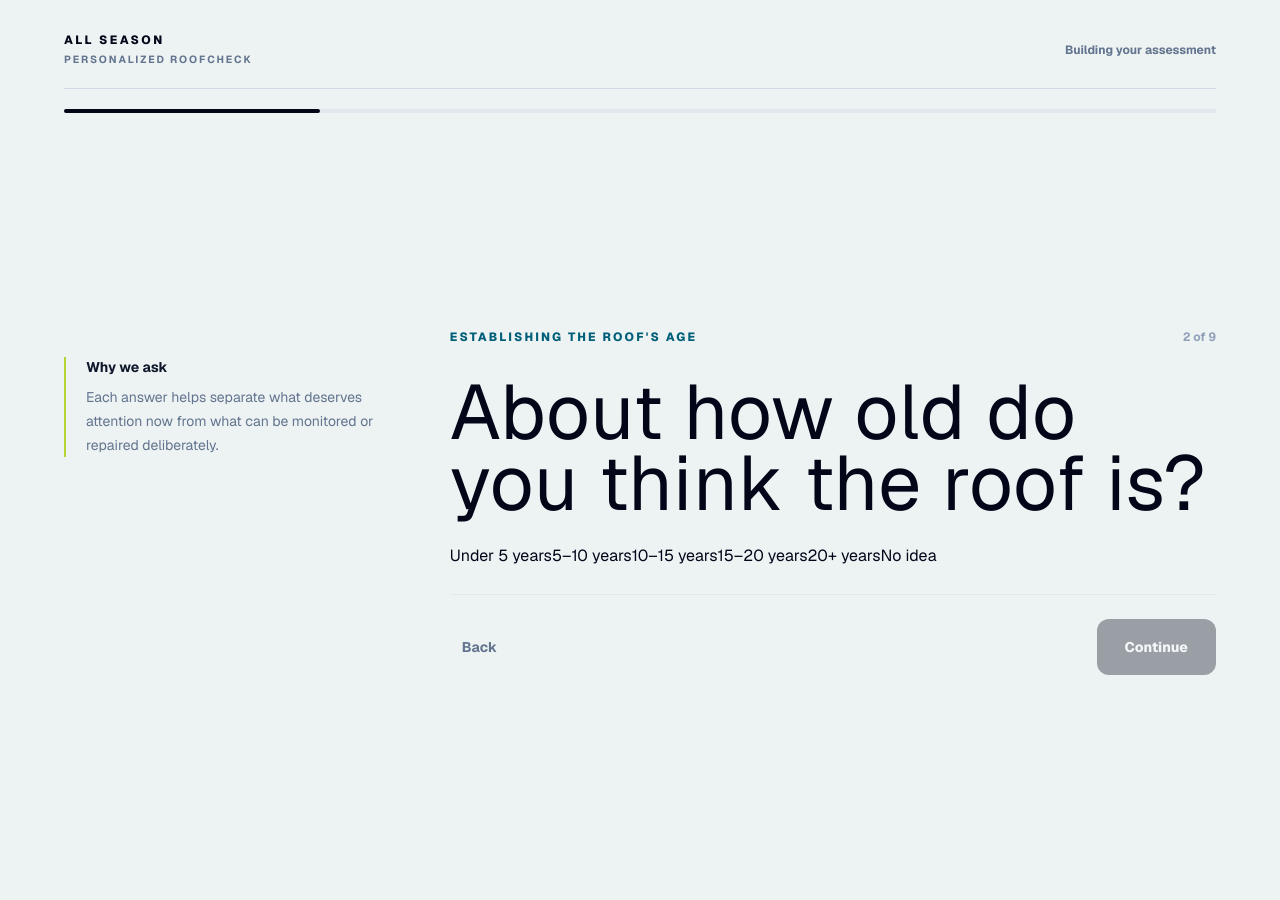
it: roof assessment questionnaire › treats no idea as a useful roof-age answer
The image size is (1280, 900).
Click the button "No idea": (909, 556) [881,544,936,568]
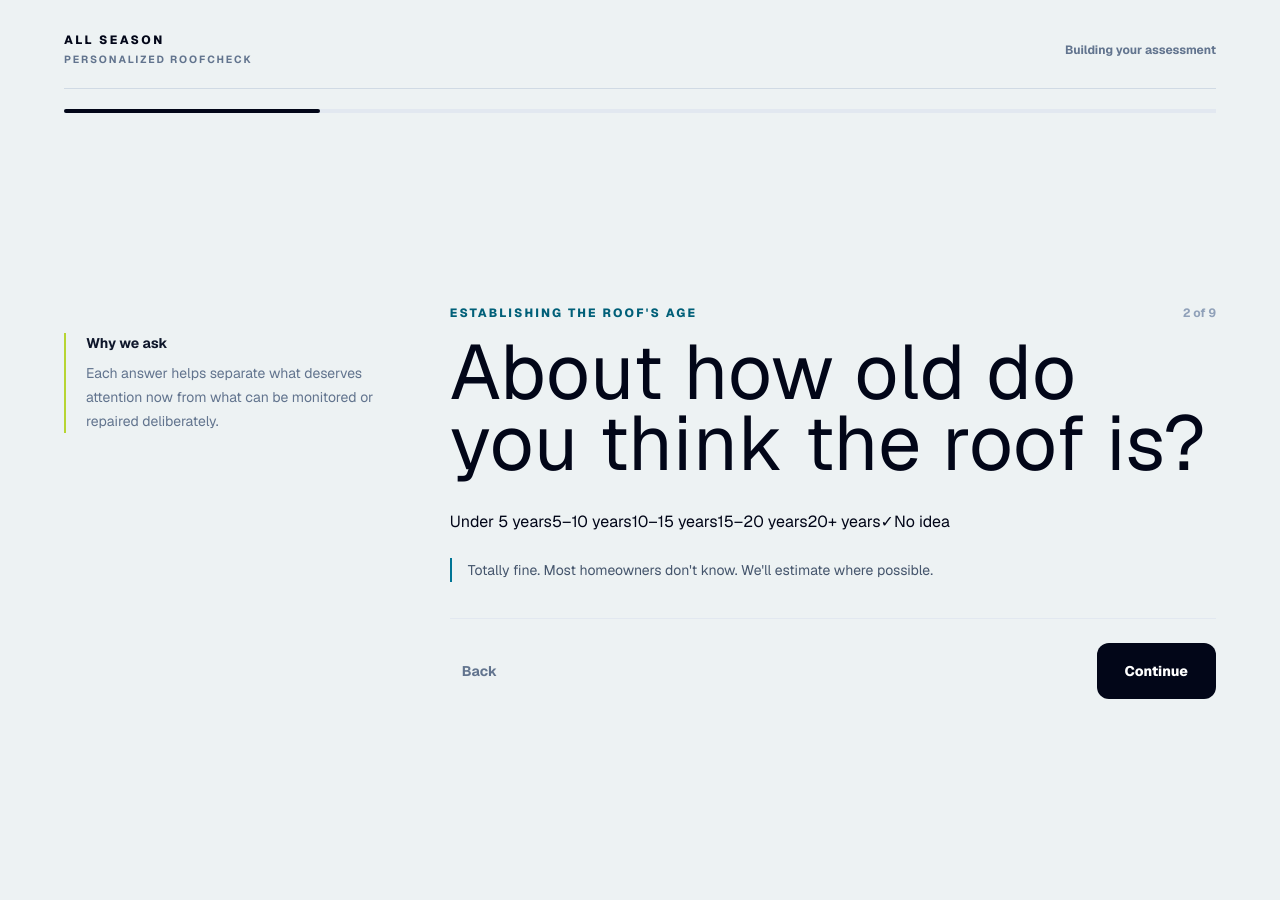
Expected: the text "Most homeowners don't know" is shown, [468,561,933,579]
Expected: the button "Continue" is enabled, [1096,643,1216,699]
